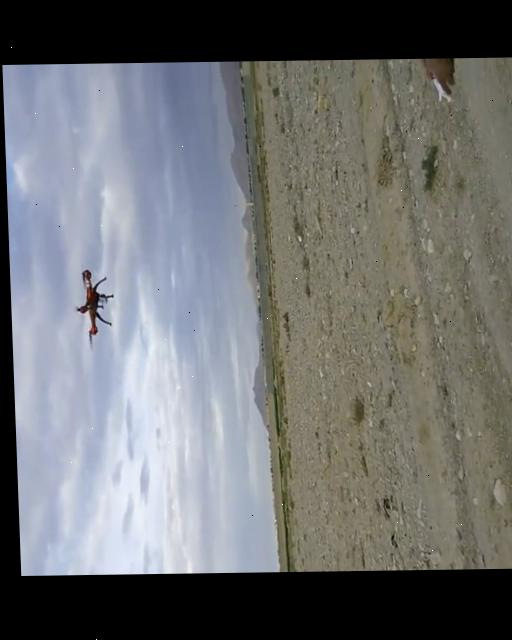drone: (66, 259, 114, 357)
